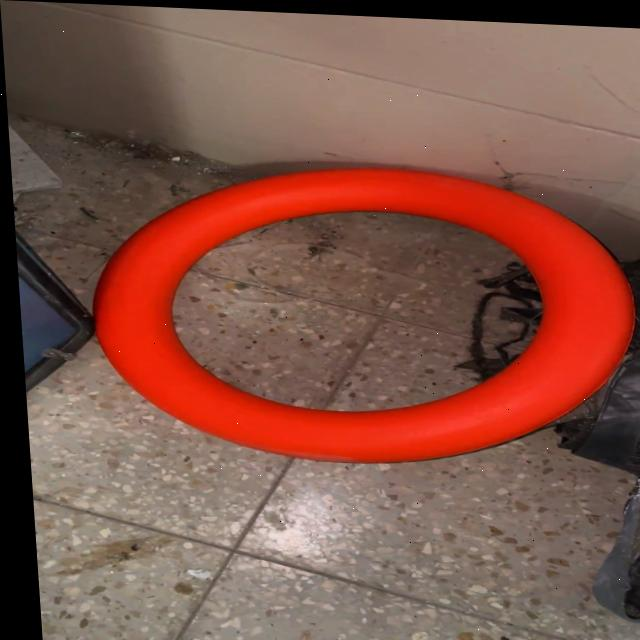note: (76, 152, 640, 473)
